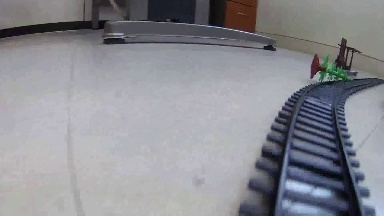tree: (307, 56, 365, 91)
